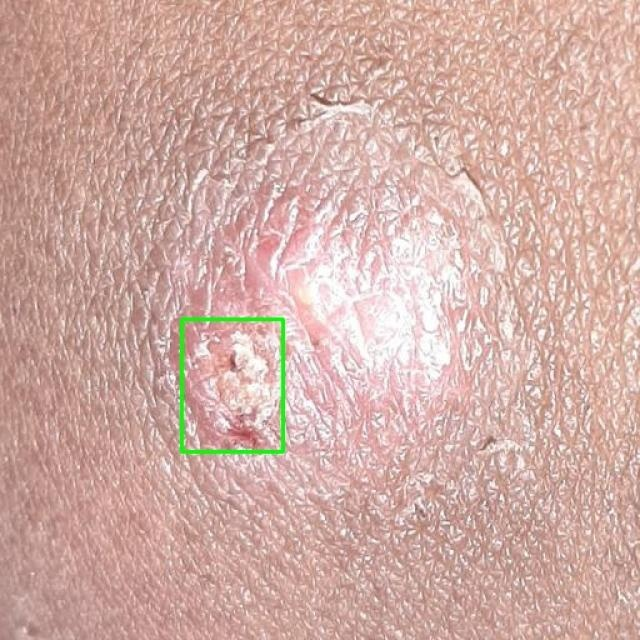Contact Dermatitis: (181, 319, 282, 451)
